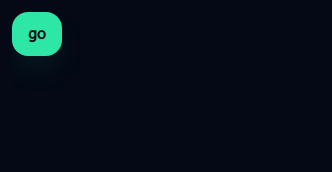
Test: LinkButton route transitions › NFR-08 moves to the next page inside a view transition when the browser has them
What coordinates should you click on to do the following:
click the link "go"
I would click on:
 (37, 34)
Its box is [12,12,62,56].
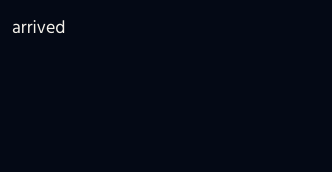
expect the text "arrived" is shown: met, box [12,13,66,42]
